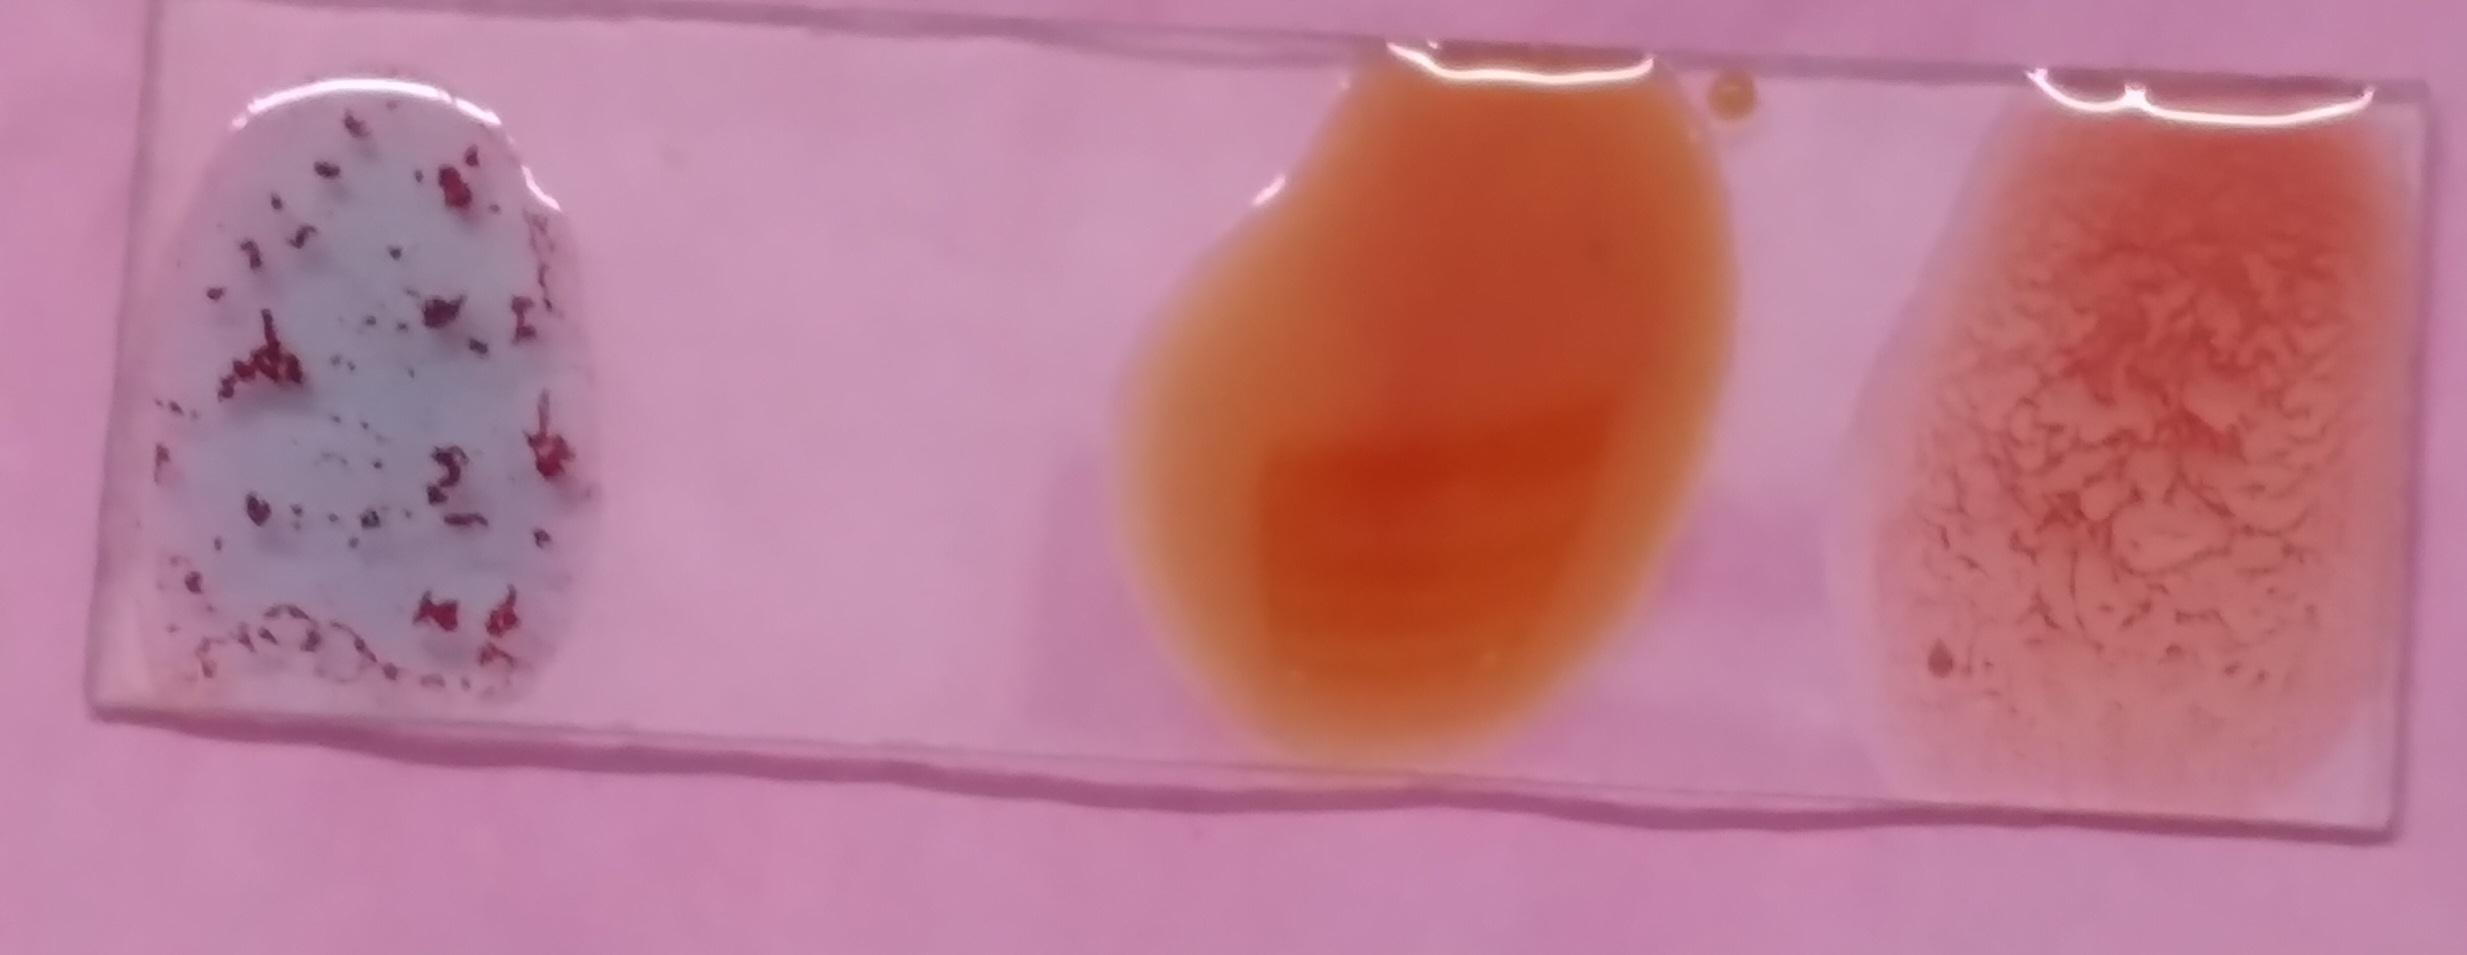A: (151, 71, 609, 717)
D: (1926, 83, 2380, 776)
